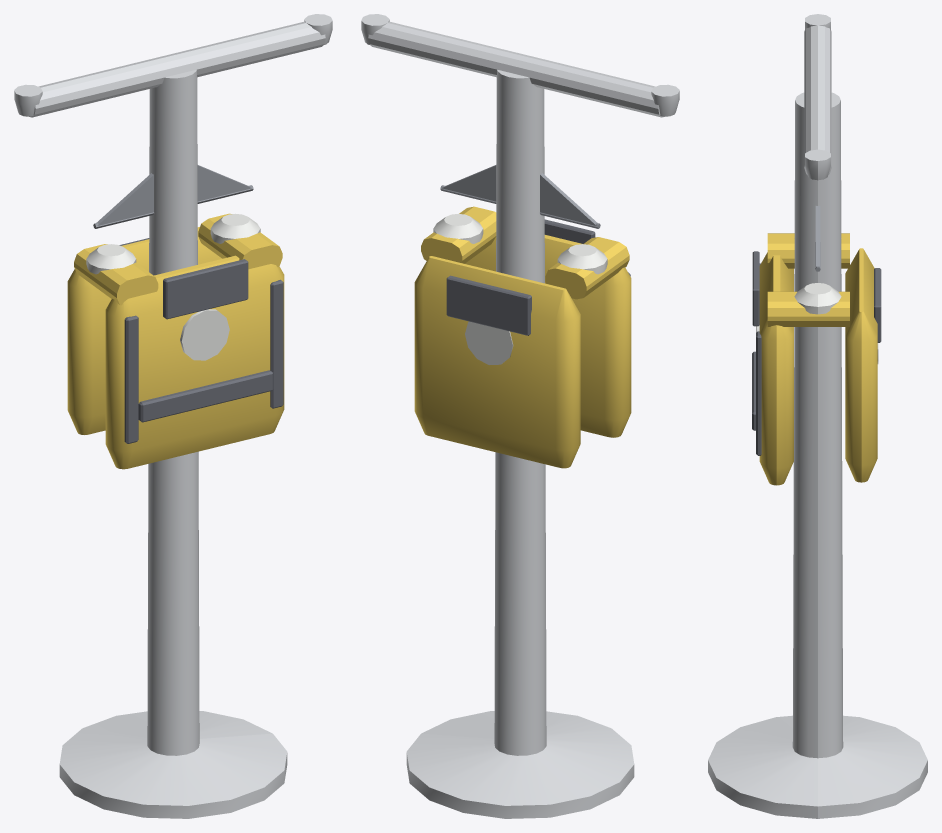
File: laser-tag-arena-and-activity-centre-referee-vest-on-ha-2592794b__34487.glb
The picture shows the model from 3 angles, left to right: view 1: azimuth 30°, elevation 25°; view 2: azimuth 150°, elevation 25°; view 3: azimuth 270°, elevation 25°; orthographic projection. The views are drawn at different scales.
Visible parts, largest first — view 1: referee-vest-on-hanger; view 2: referee-vest-on-hanger; view 3: referee-vest-on-hanger.
Boxes of the visible parts, <box> form: referee-vest-on-hanger: <box>14,14,332,818</box>; referee-vest-on-hanger: <box>361,14,679,818</box>; referee-vest-on-hanger: <box>708,14,927,818</box>.
Size of the model in its own units: 0.76 by 1.65 by 0.48.
